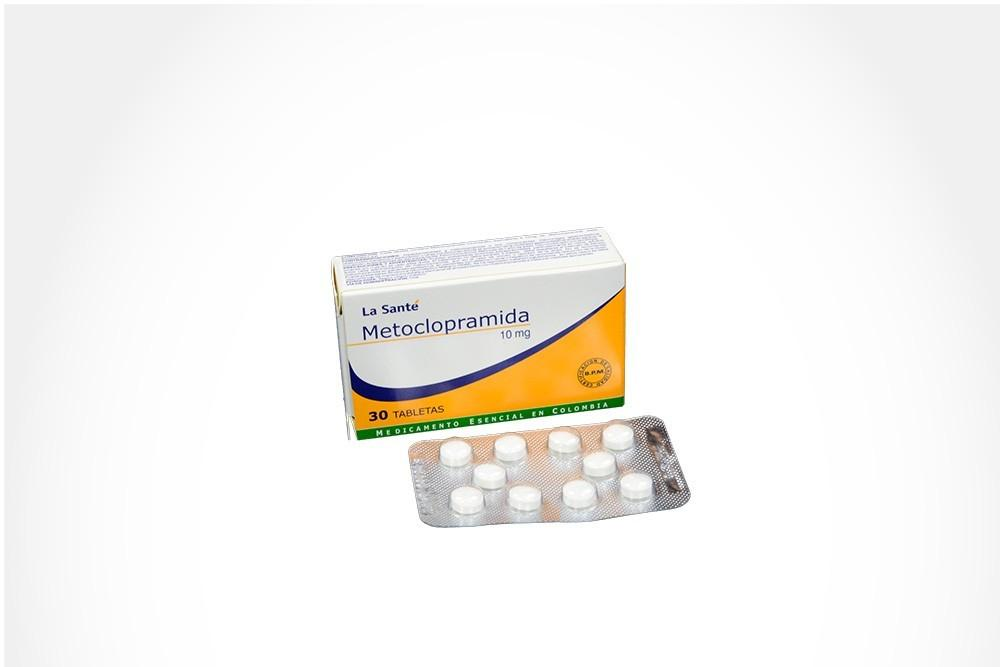LaSante: (346, 273, 623, 441)
